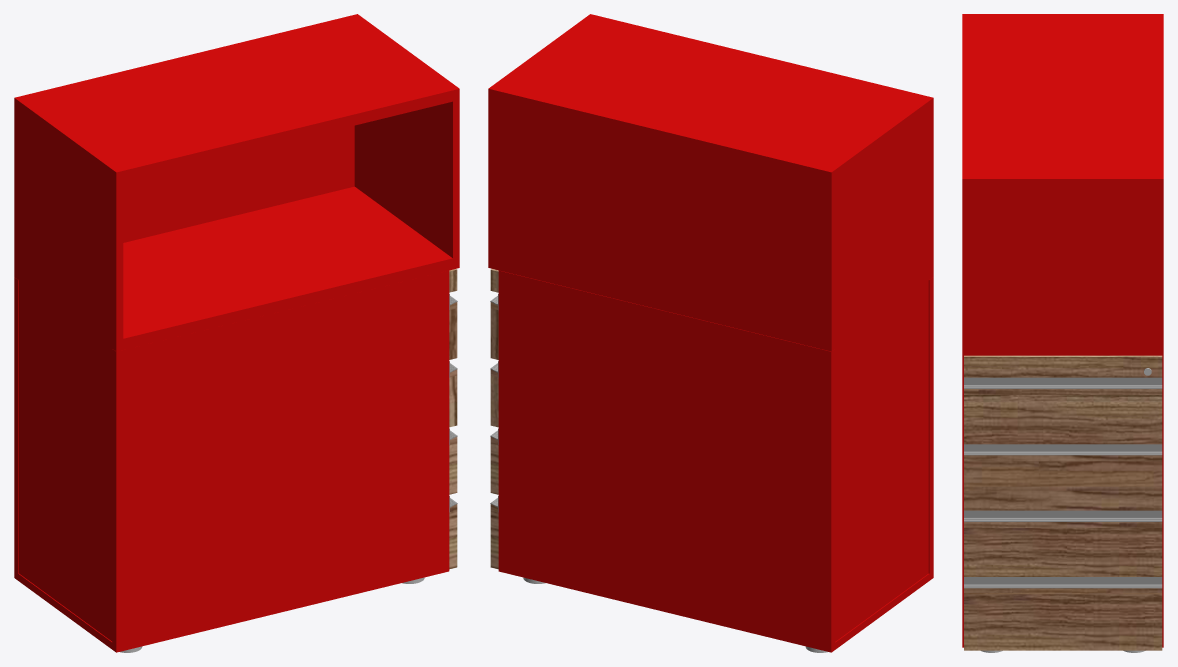
The model's file is cabinet_13HE_41_addonFINALA.fbx.
3 renders of one model, left to right at view 1: azimuth 30°, elevation 25°; view 2: azimuth 150°, elevation 25°; view 3: azimuth 270°, elevation 25°, orthographic.
Parts seen in each view (by area): view 1: drewno2_mesh, drewno_top_mesh; view 2: drewno2_mesh, drewno_top_mesh; view 3: drewno_top_mesh, drewno_mesh (×4), metal2_mesh, metal_mesh (×4), drewno2_mesh.
Part boxes in pixels (x1,y1,x2,y2): drewno2_mesh: (14,270,449,652); drewno_top_mesh: (14,14,459,351); drewno2_mesh: (498,270,933,652); drewno_top_mesh: (488,14,933,351); drewno_top_mesh: (962,14,1163,355); drewno_mesh (×4): (964,355,1162,576); metal2_mesh: (964,588,1162,650); metal_mesh (×4): (964,377,1162,588); drewno2_mesh: (962,355,1163,647).
Bounding box in the file's own units: 80 × 109 × 41.24.
